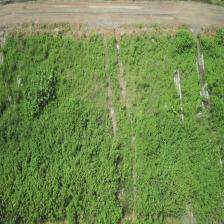vegetation: (3, 94, 116, 224), (135, 109, 221, 219)
